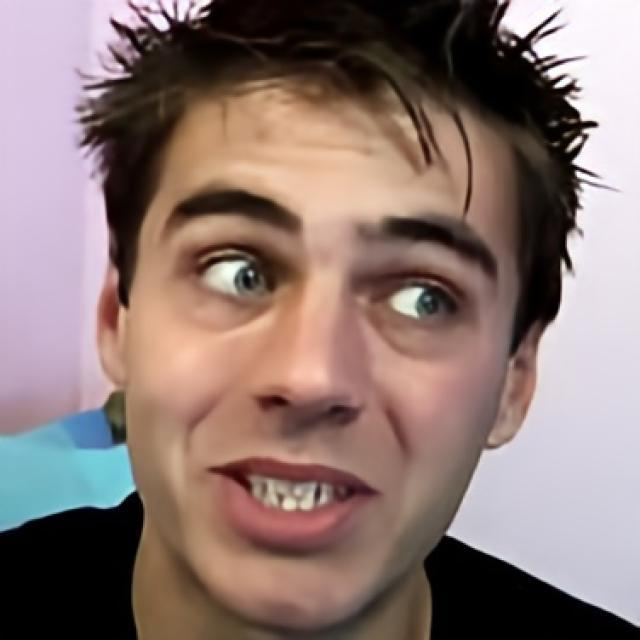surprise: (126, 64, 525, 636)
